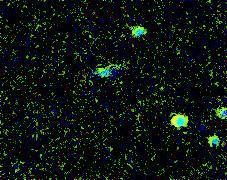star: (40, 97, 70, 127)
